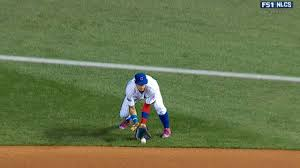baseball: (139, 136, 148, 145)
baseball player: (117, 71, 173, 140)
